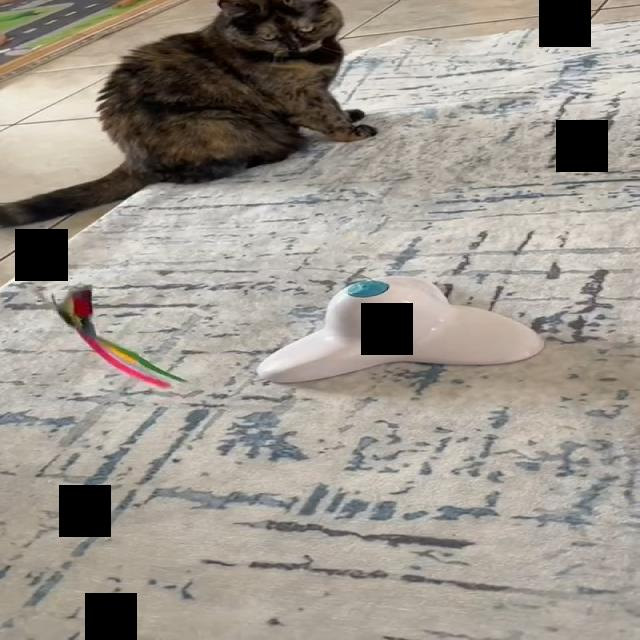authorized: (0, 0, 377, 228)
